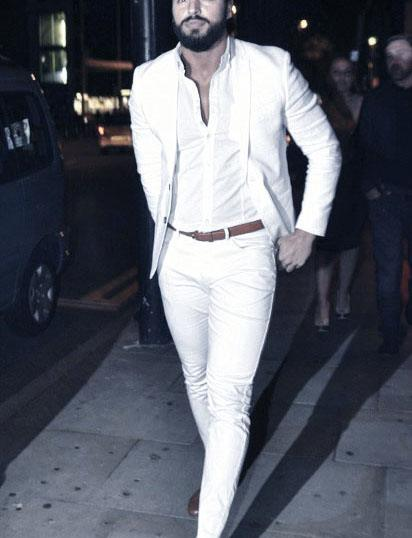F_M_suit jacket: (119, 33, 342, 243)
F_belt: (151, 210, 267, 243)
